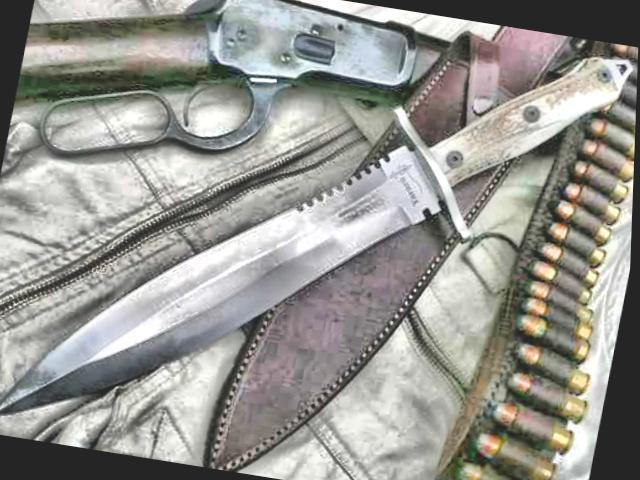knife: (0, 87, 441, 479)
